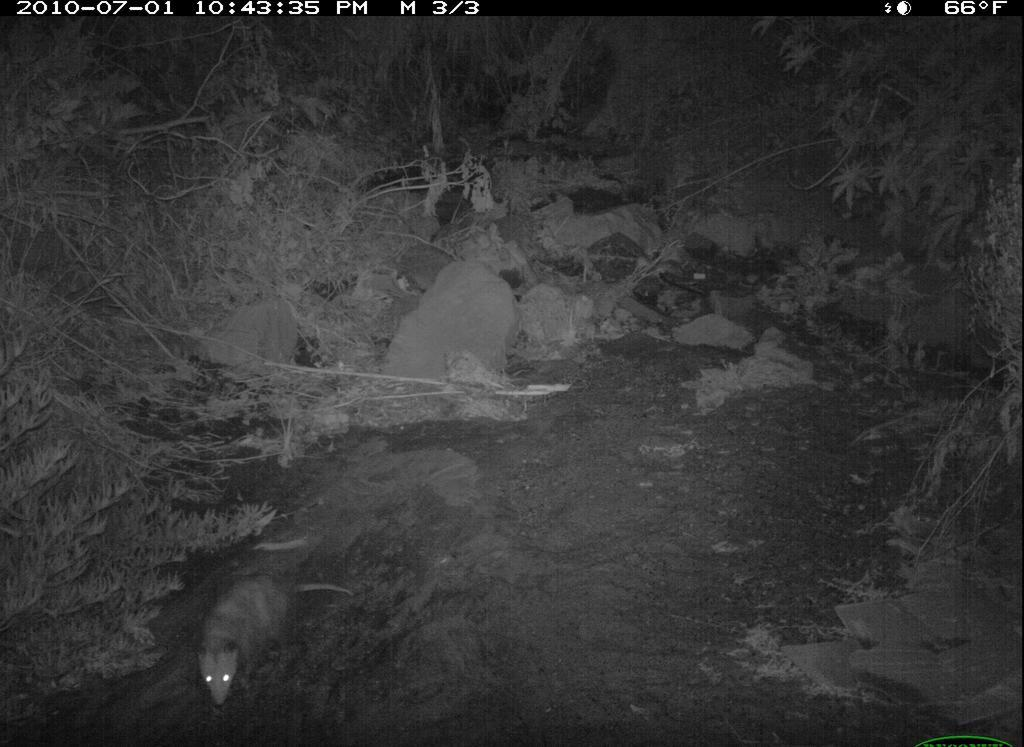opossum: (190, 565, 356, 712)
